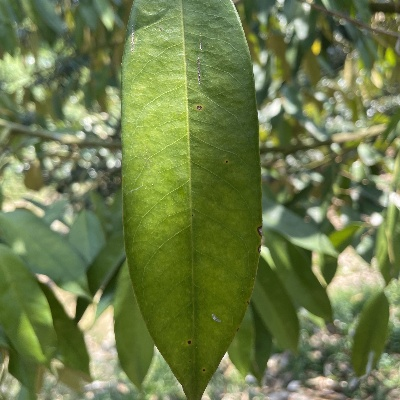Leaf_Phomopsis: (118, 0, 266, 400)
